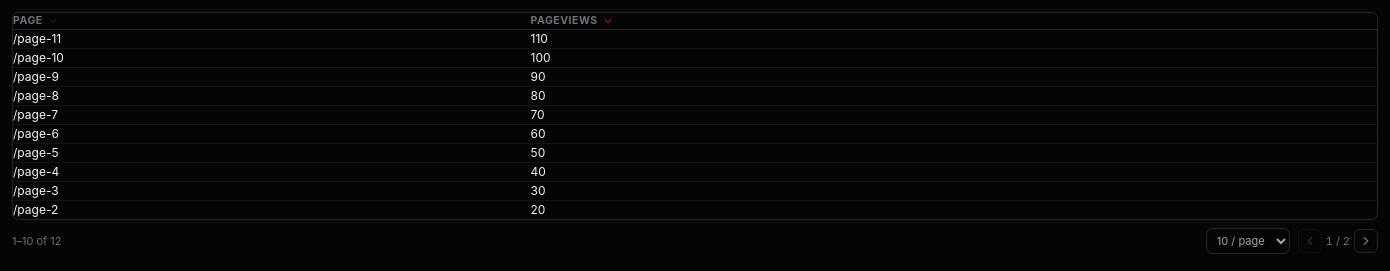
Scenario: DataTable › sorts by a column and flips direction on a second click
Step 1. Click the button "Pageviews" → (572, 21), box [530, 13, 614, 29]
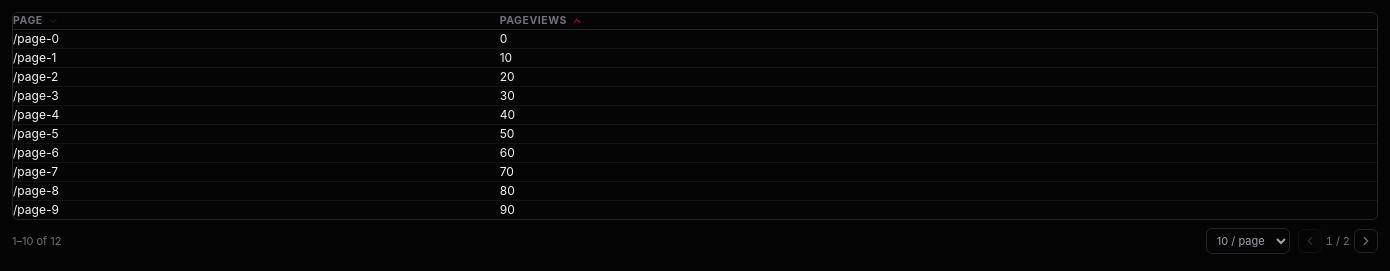
Expected: the cell "/page-0" is shown, [13, 30, 500, 48]
